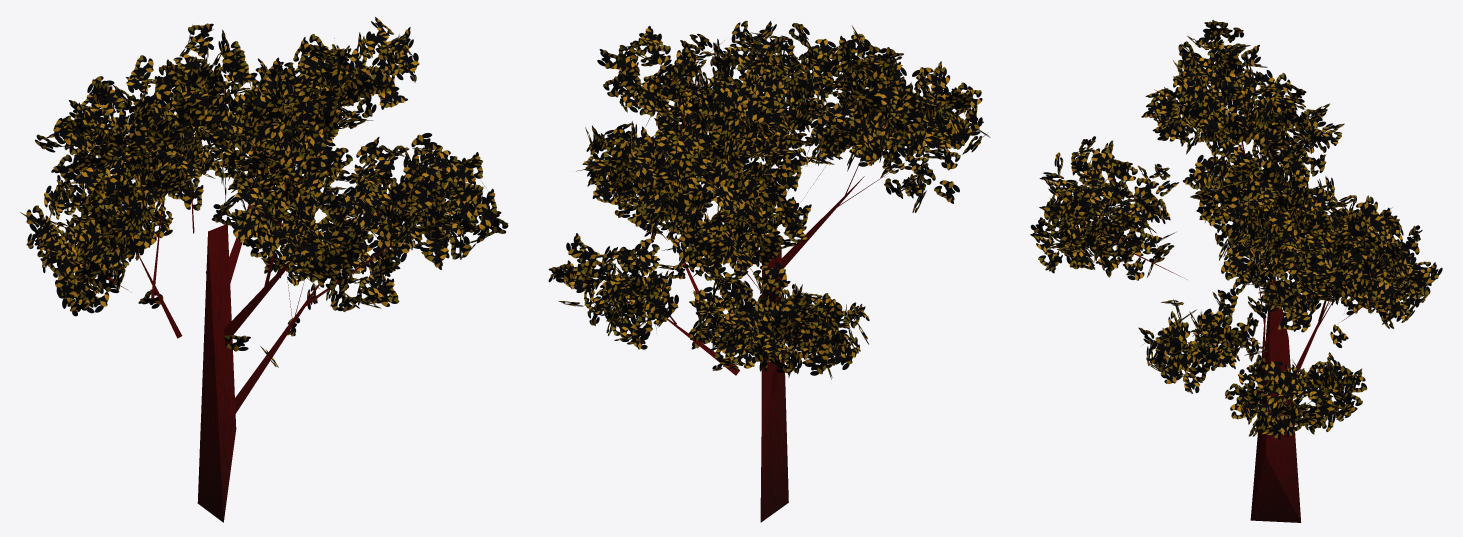
The model's file is oak_broadleaf_v03_LOD2.glb.
3 views of the same model, side by side, from view 1: azimuth 30°, elevation 25°; view 2: azimuth 150°, elevation 25°; view 3: azimuth 270°, elevation 25° (orthographic). The views are drawn at different scales.
Visible parts, largest first — view 1: oak_broadleaf_v03_LOD2; view 2: oak_broadleaf_v03_LOD2; view 3: oak_broadleaf_v03_LOD2.
Part boxes in pixels (bbox=[...]): oak_broadleaf_v03_LOD2: bbox=[20, 17, 508, 522]; oak_broadleaf_v03_LOD2: bbox=[548, 20, 989, 522]; oak_broadleaf_v03_LOD2: bbox=[1030, 20, 1442, 522].
Bounding box in the file's own units: 22.04 × 23.66 × 20.49.
2 materials, 2 textured.
